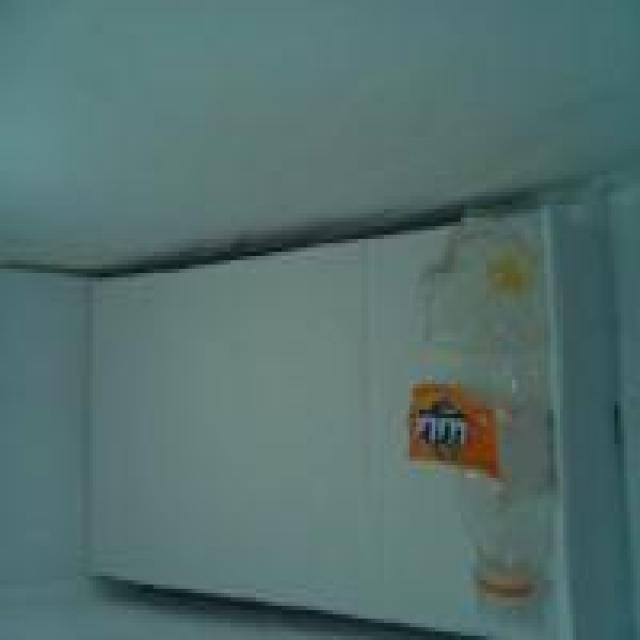bottle: (381, 215, 584, 537)
